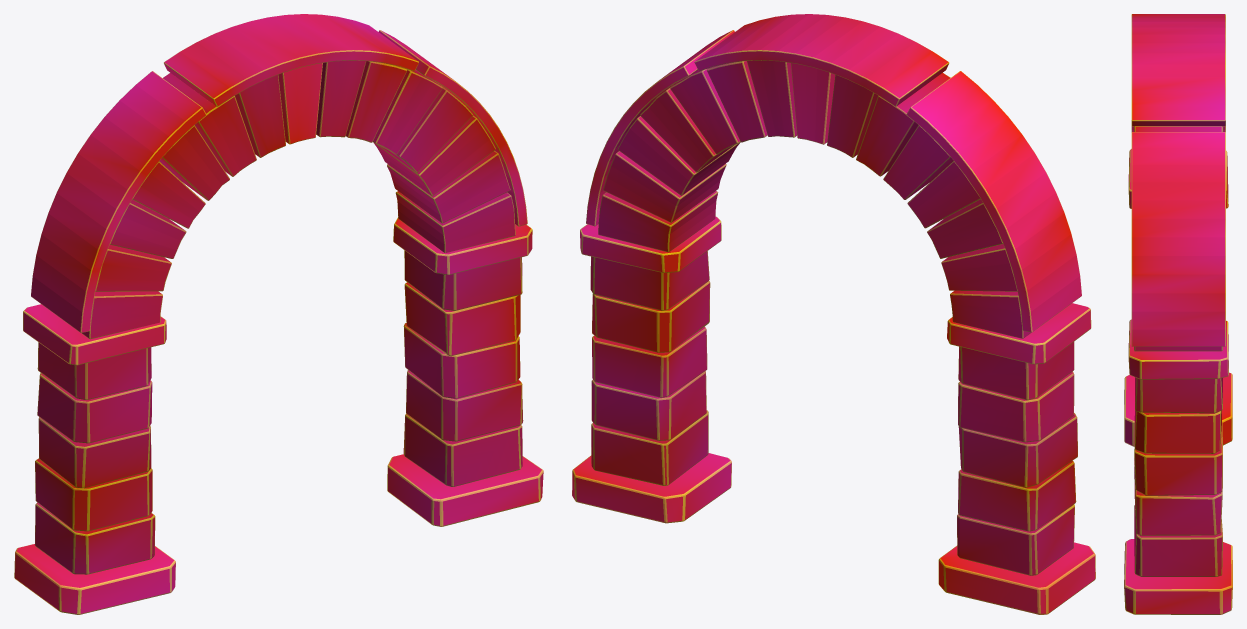
File: SM_Arch.fbx
The picture shows the model from 3 angles, left to right: view 1: azimuth 30°, elevation 25°; view 2: azimuth 150°, elevation 25°; view 3: azimuth 270°, elevation 25°; orthographic projection. The views are drawn at different scales.
Visible parts, largest first — view 1: SM_Arch; view 2: SM_Arch; view 3: SM_Arch.
Part boxes in pixels (x1,y1,x2,y2): SM_Arch: (14,14,543,614); SM_Arch: (572,14,1095,614); SM_Arch: (1124,14,1232,614).
Size of what is drawn, in the model's own units: 93.46 by 448 by 444.
